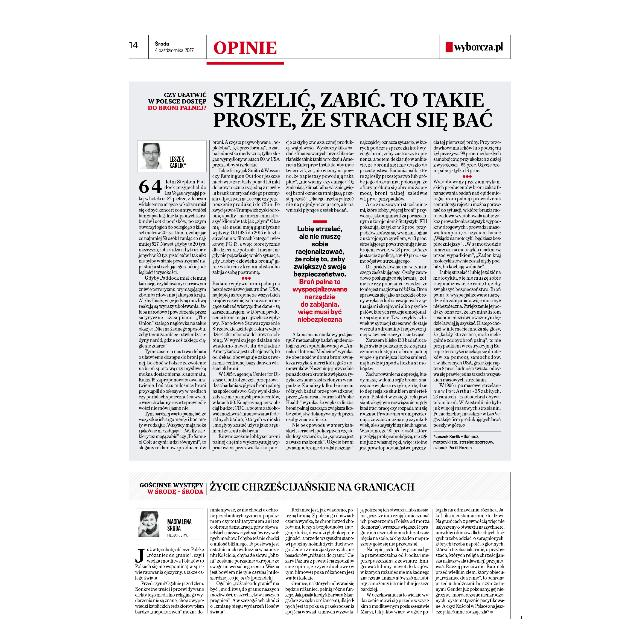article: (131, 84, 505, 456), (132, 475, 508, 619)
